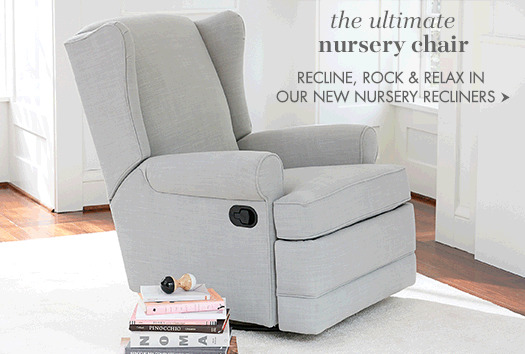chairs: (52, 5, 429, 336)
